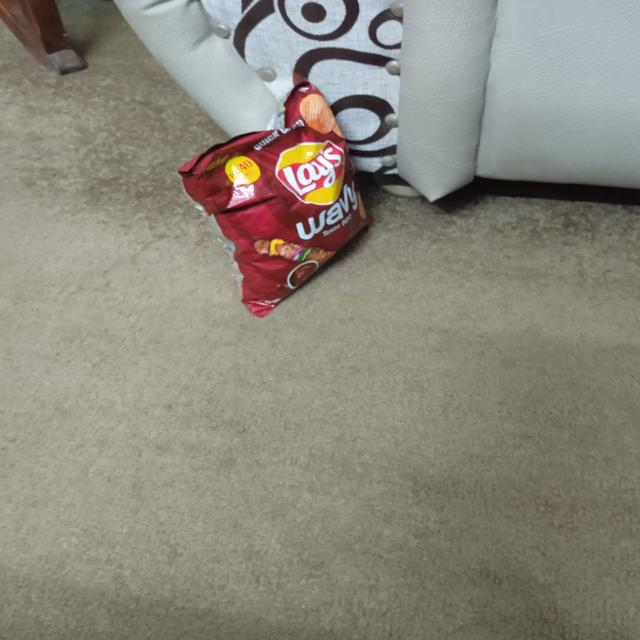Plastic: (164, 83, 384, 320)
